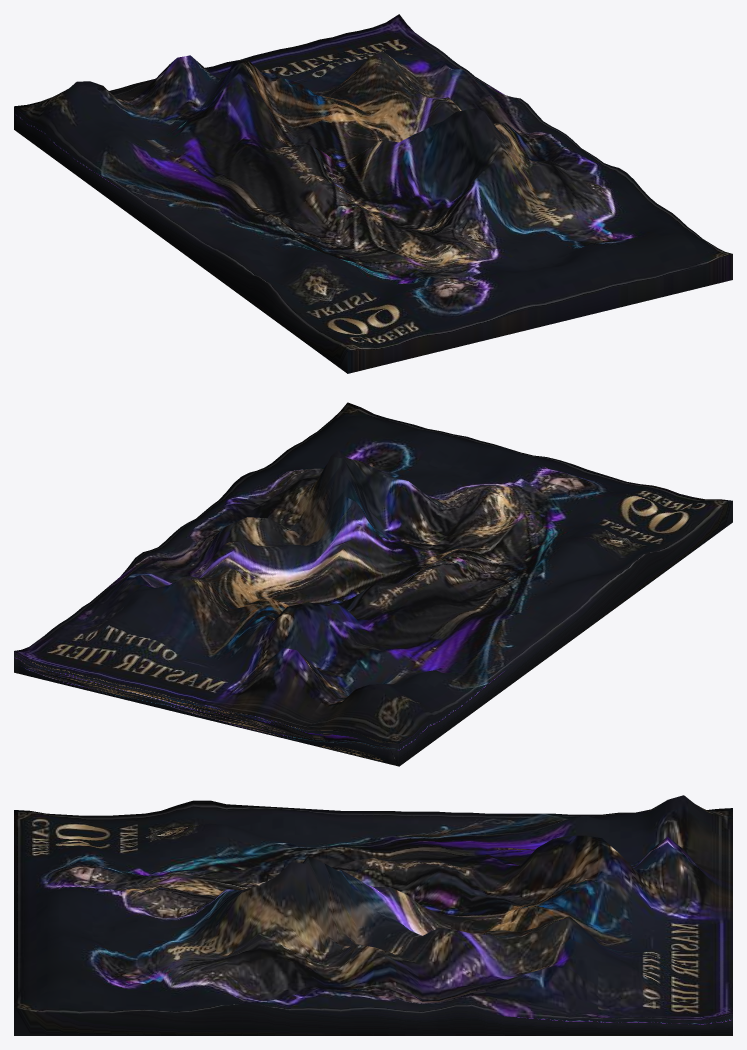
Rendered from CAREER_09_Outfit_04_Master.glb.
3 views of the same model, one above another, from view 1: azimuth 30°, elevation 25°; view 2: azimuth 150°, elevation 25°; view 3: azimuth 270°, elevation 25° (orthographic). The views are drawn at different scales.
Visible parts, largest first — view 1: CAREER_09_Outfit_04_Master; view 2: CAREER_09_Outfit_04_Master; view 3: CAREER_09_Outfit_04_Master.
Boxes of the visible parts, x1,y1,x2,y2 form: CAREER_09_Outfit_04_Master: (14, 14, 732, 373); CAREER_09_Outfit_04_Master: (14, 402, 732, 766); CAREER_09_Outfit_04_Master: (14, 795, 732, 1035).
Bounding box in the file's own units: 2 × 0.51 × 3.
1 material, 1 textured.
